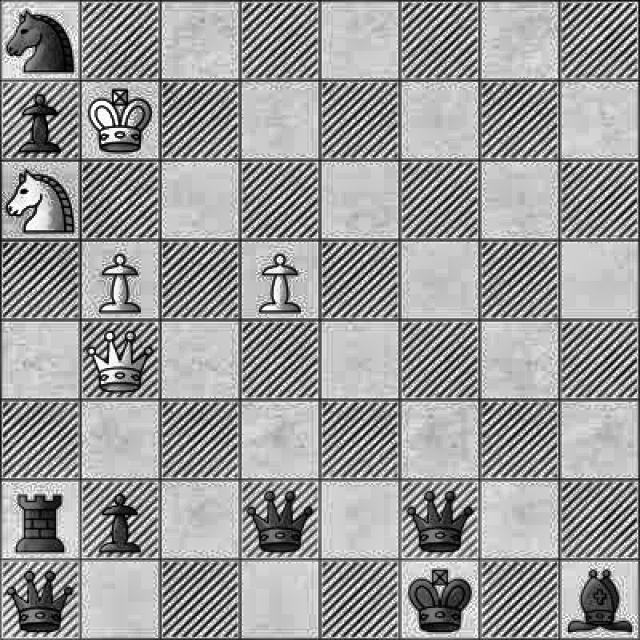Black Knight: (8, 5, 78, 79)
black bishop: (568, 566, 634, 638)
black king: (404, 562, 473, 640)
black pawn: (12, 85, 68, 158), (90, 488, 148, 556)
black queen: (7, 562, 74, 638), (406, 480, 474, 554), (243, 486, 315, 554)
black rook: (5, 483, 74, 558)
white king: (83, 89, 154, 156)
white pawn: (250, 248, 310, 320), (94, 254, 149, 316)
white queen: (86, 328, 156, 397)
whiteknight: (6, 169, 74, 237)
